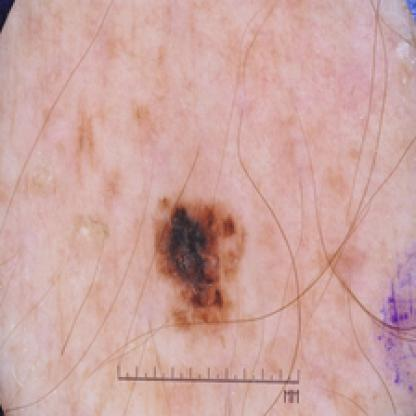malignant: (143, 186, 258, 334)
